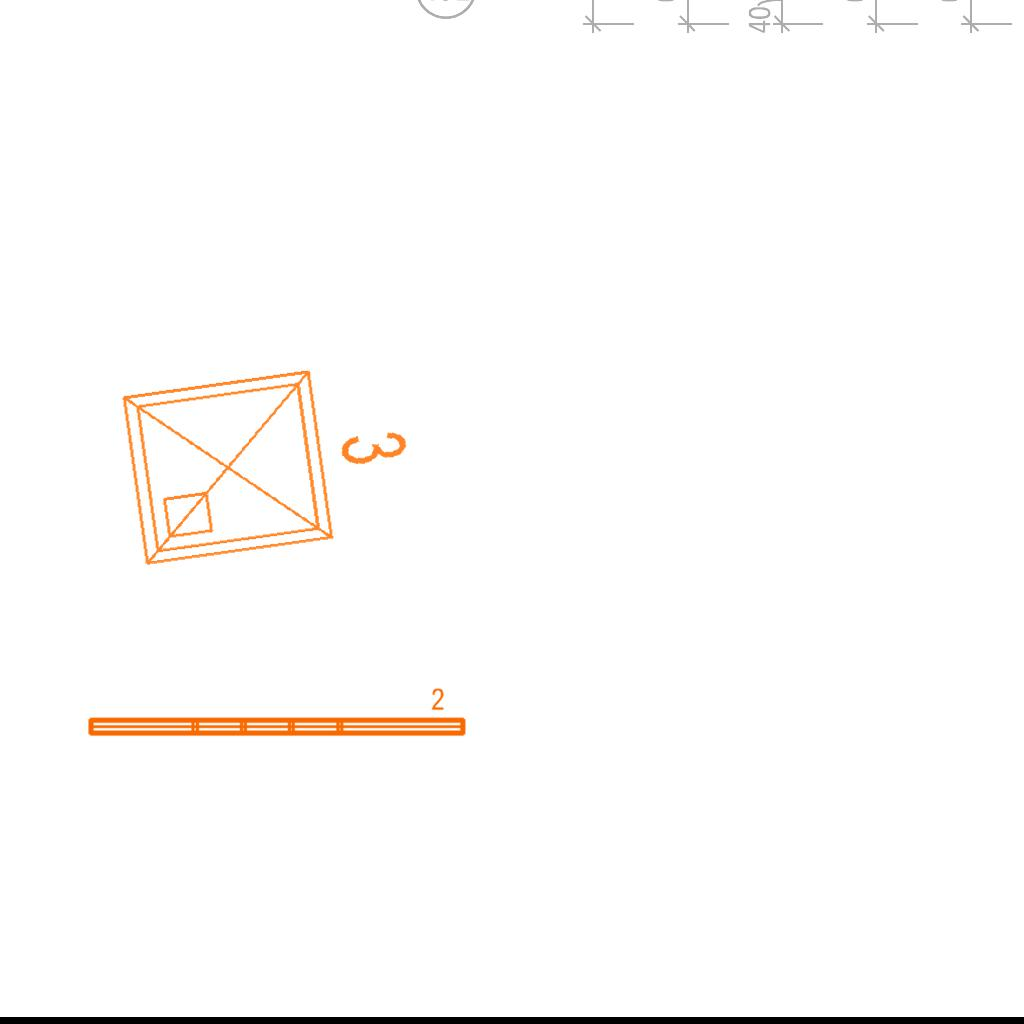Ambulanz_Pendelleuchte_LED: (83, 686, 470, 742)
Einbaudownlights_LED_Konferenzraeume: (104, 334, 432, 582)
